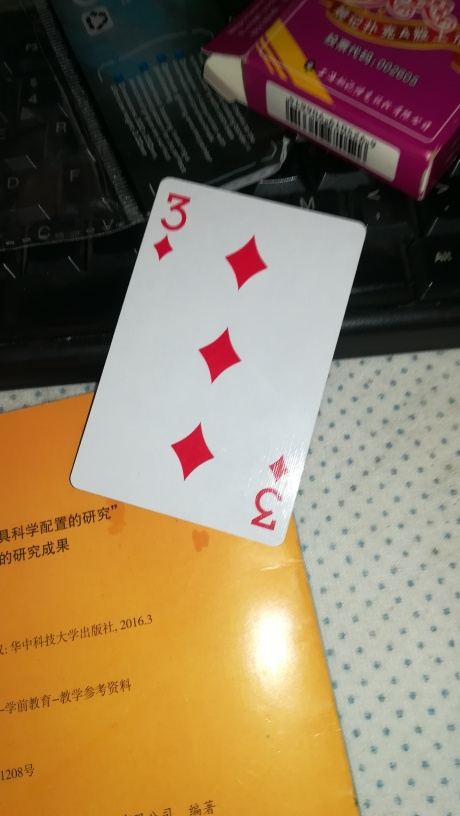fk 3: (67, 159, 370, 547)
